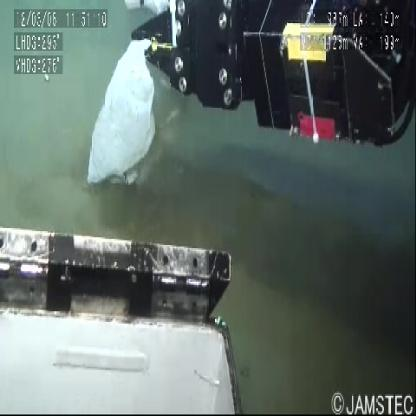Rov: (1, 212, 241, 414), (128, 2, 414, 151), (314, 379, 416, 416)
Rác: (85, 20, 159, 193)
